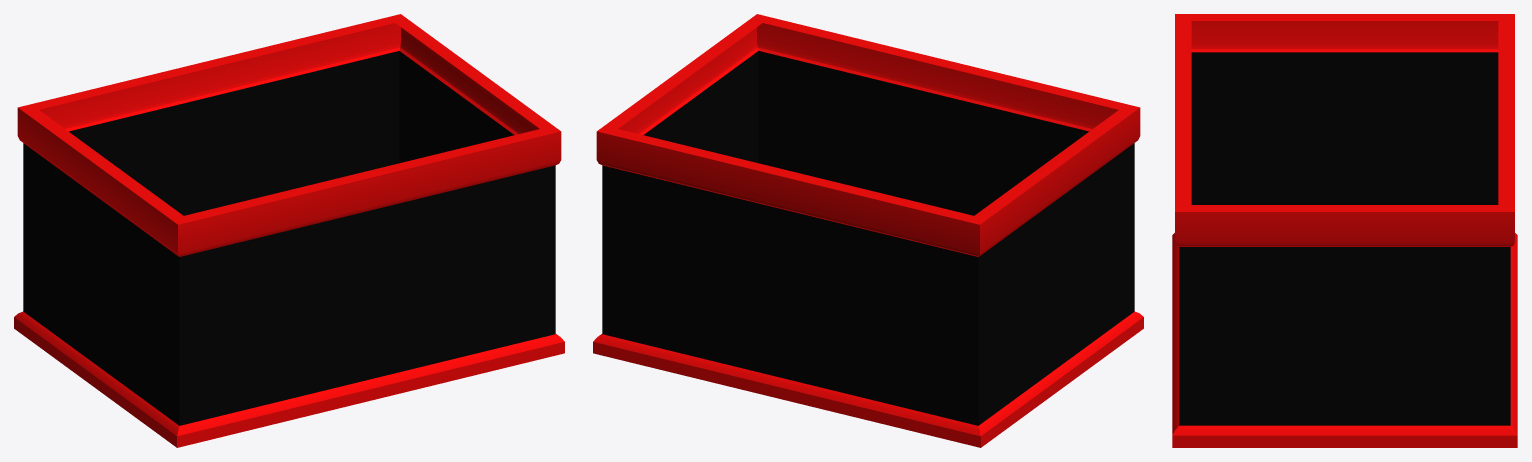
The model's file is Building01_Top_Nice.fbx.
3 renders of one model, left to right at view 1: azimuth 30°, elevation 25°; view 2: azimuth 150°, elevation 25°; view 3: azimuth 270°, elevation 25°, orthographic. The views are drawn at different scales.
Parts seen in each view (by area): view 1: Building1_Top; view 2: Building1_Top; view 3: Building1_Top.
Part boxes in pixels (x1=…): Building1_Top: x1=14, y1=14, x2=564, y2=447; Building1_Top: x1=593, y1=14, x2=1143, y2=447; Building1_Top: x1=1172, y1=14, x2=1517, y2=447.
Bounding box in the file's own units: 549 × 300 × 400.
